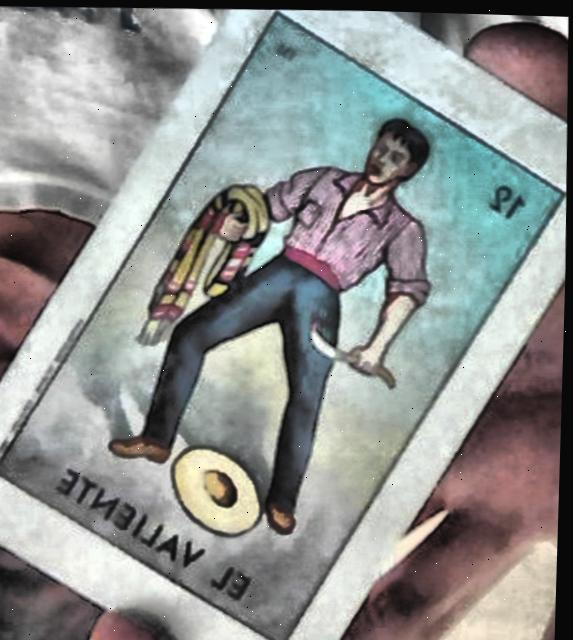El Valiente: (0, 13, 565, 640)
